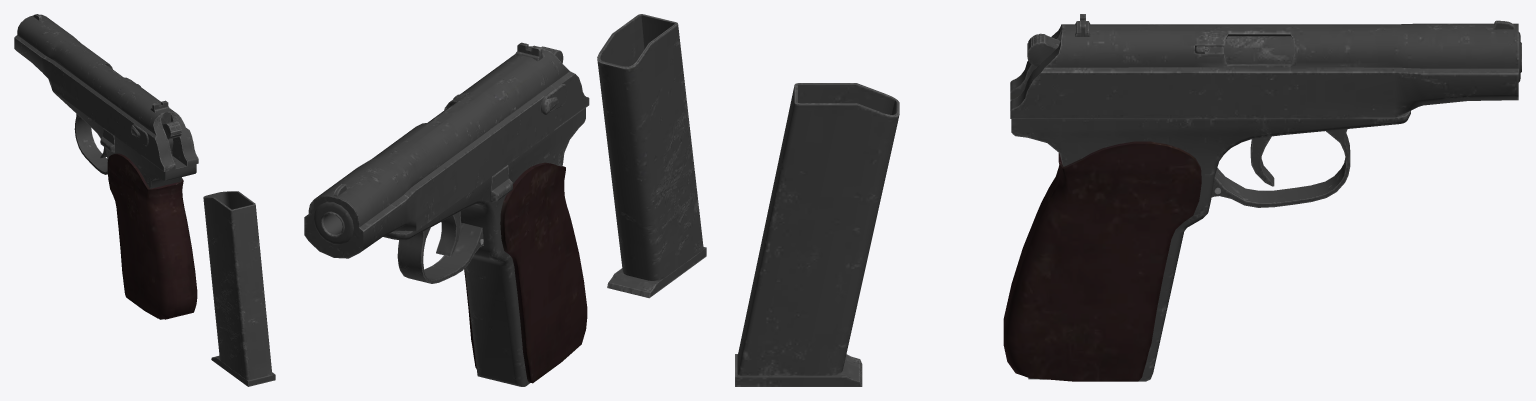
The model's file is pistol.glb.
The picture shows the model from 3 angles, left to right: view 1: azimuth 30°, elevation 25°; view 2: azimuth 150°, elevation 25°; view 3: azimuth 270°, elevation 25°; orthographic projection. The views are drawn at different scales.
Parts seen in each view (by area): view 1: Body, Slide, Magazine, Hammer, Safety; view 2: Body, Slide, Magazine, Trigger, Barrel, Safety; view 3: Body, Slide, Magazine, Barrel, Hammer, Trigger.
Boxes of the visible parts, left/top/right/bottom form: Body: left=52, top=90, right=197, bottom=319; Slide: left=14, top=14, right=198, bottom=171; Magazine: left=203, top=191, right=275, bottom=386; Hammer: left=162, top=121, right=181, bottom=153; Safety: left=131, top=124, right=148, bottom=146; Body: left=383, top=108, right=587, bottom=386; Slide: left=304, top=42, right=589, bottom=258; Magazine: left=597, top=14, right=706, bottom=298; Trigger: left=436, top=211, right=460, bottom=256; Barrel: left=321, top=105, right=452, bottom=237; Safety: left=541, top=83, right=567, bottom=114; Body: left=1003, top=111, right=1410, bottom=381; Slide: left=1010, top=14, right=1520, bottom=118; Magazine: left=735, top=83, right=899, bottom=386; Barrel: left=1223, top=36, right=1521, bottom=72; Hammer: left=1027, top=33, right=1060, bottom=67; Trigger: left=1250, top=136, right=1274, bottom=186.
Size of the model in its own units: 0.0257 by 0.1276 by 0.2557.
1 material, 1 textured.
